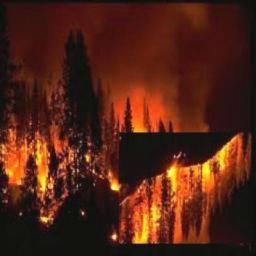Large fire: (7, 101, 253, 231), (122, 133, 256, 241)
Low smoke: (7, 4, 242, 122)
